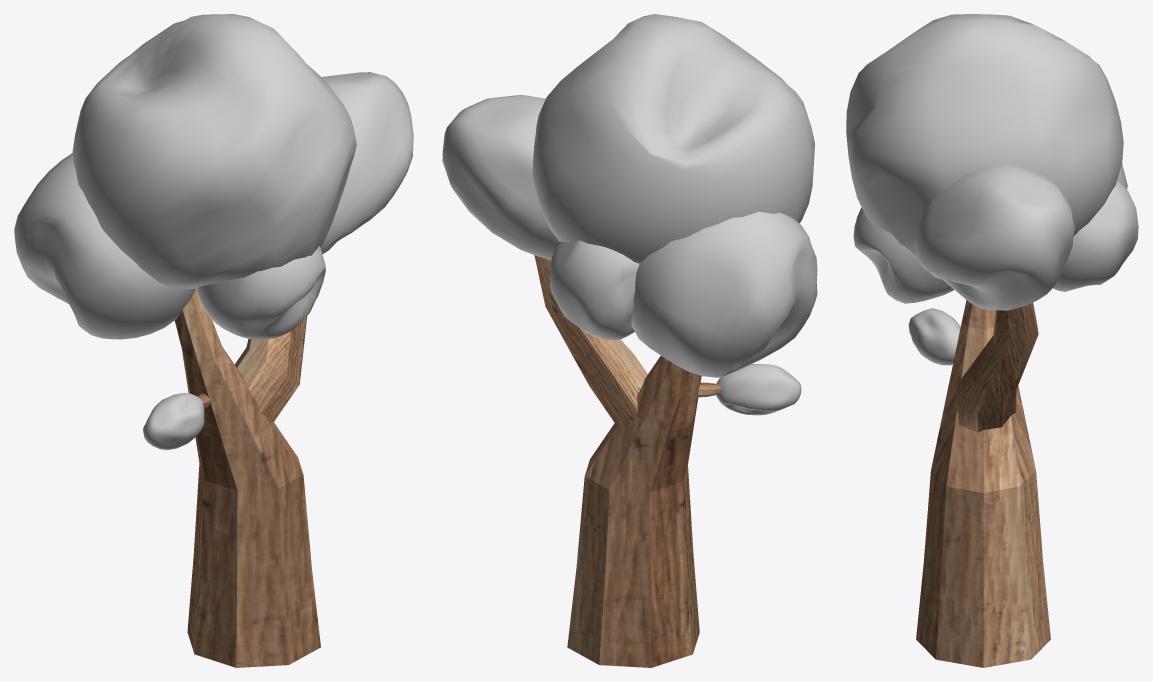
File: SM_AliveTree_1.0.fbx
The picture shows the model from 3 angles, left to right: view 1: azimuth 30°, elevation 25°; view 2: azimuth 150°, elevation 25°; view 3: azimuth 270°, elevation 25°; orthographic projection. The views are drawn at different scales.
Visible parts, largest first — view 1: pSphere3, Tree_base, pSphere1, pSphere4, pSphere5, Right_main_branch, pSphere6; view 2: pSphere3, Tree_base, pSphere1, pSphere4, pSphere2, Right_main_branch, pSphere6; view 3: pSphere3, Tree_base, pSphere4, Right_main_branch, pSphere2, pSphere5, pSphere6.
Part boxes in pixels (x1=…): pSphere3: x1=72, y1=14, x2=356, y2=290; Tree_base: x1=174, y1=290, x2=320, y2=667; pSphere1: x1=14, y1=153, x2=195, y2=339; pSphere4: x1=320, y1=72, x2=413, y2=254; pSphere5: x1=196, y1=246, x2=325, y2=339; Right_main_branch: x1=234, y1=316, x2=306, y2=424; pSphere6: x1=143, y1=393, x2=204, y2=450; pSphere3: x1=532, y1=14, x2=814, y2=263; Tree_base: x1=567, y1=356, x2=701, y2=667; pSphere1: x1=631, y1=211, x2=817, y2=377; pSphere4: x1=442, y1=95, x2=559, y2=260; pSphere2: x1=550, y1=240, x2=639, y2=339; Right_main_branch: x1=534, y1=255, x2=647, y2=428; pSphere6: x1=716, y1=364, x2=801, y2=415; pSphere3: x1=846, y1=14, x2=1123, y2=256; Tree_base: x1=916, y1=300, x2=1050, y2=667; pSphere4: x1=915, y1=164, x2=1074, y2=310; Right_main_branch: x1=956, y1=302, x2=1038, y2=432; pSphere2: x1=1053, y1=180, x2=1138, y2=291; pSphere5: x1=853, y1=207, x2=953, y2=303; pSphere6: x1=908, y1=308, x2=960, y2=365.
Bounding box in the file's own units: 33.38 × 54.94 × 23.89.
